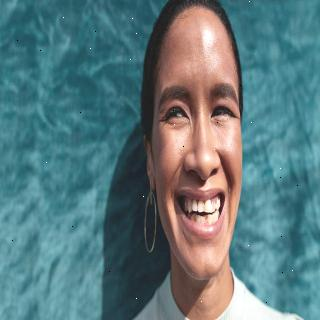maligned: (191, 214, 197, 222), (210, 202, 215, 211), (200, 214, 205, 223), (204, 214, 208, 223)
stains: (203, 214, 209, 222)
